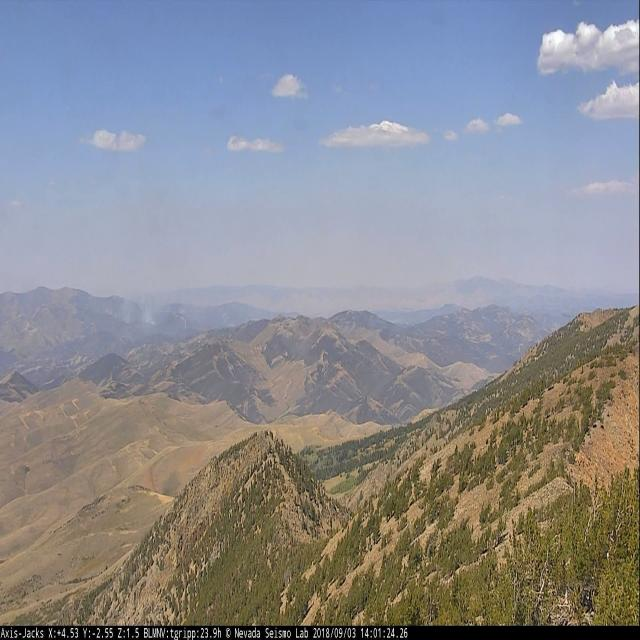smoke: (124, 298, 161, 328)
